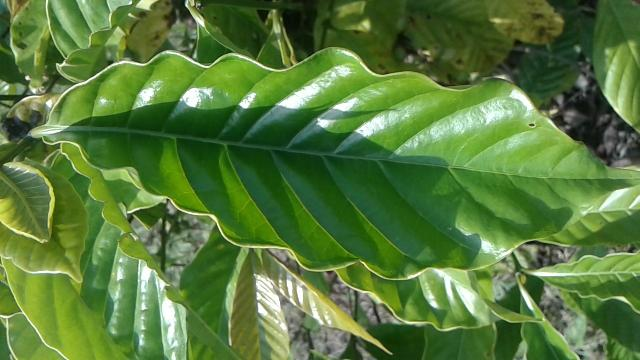healthy: (40, 45, 640, 282)
